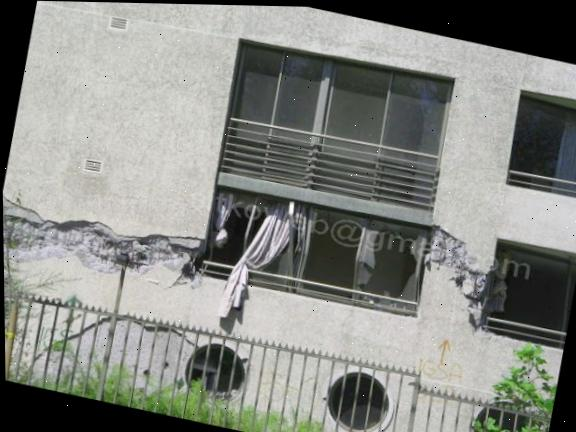spalling: (3, 195, 204, 286), (425, 226, 488, 328)
